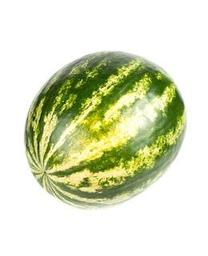watermelon: (23, 50, 187, 209)
